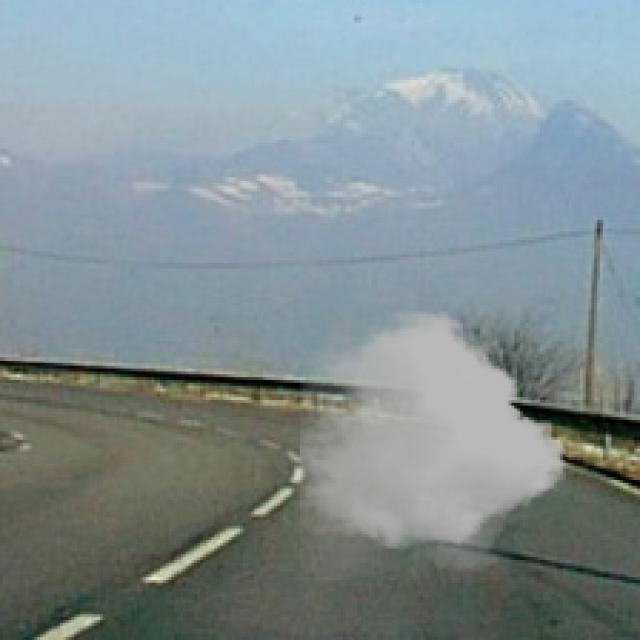smoke: (300, 306, 566, 580)
